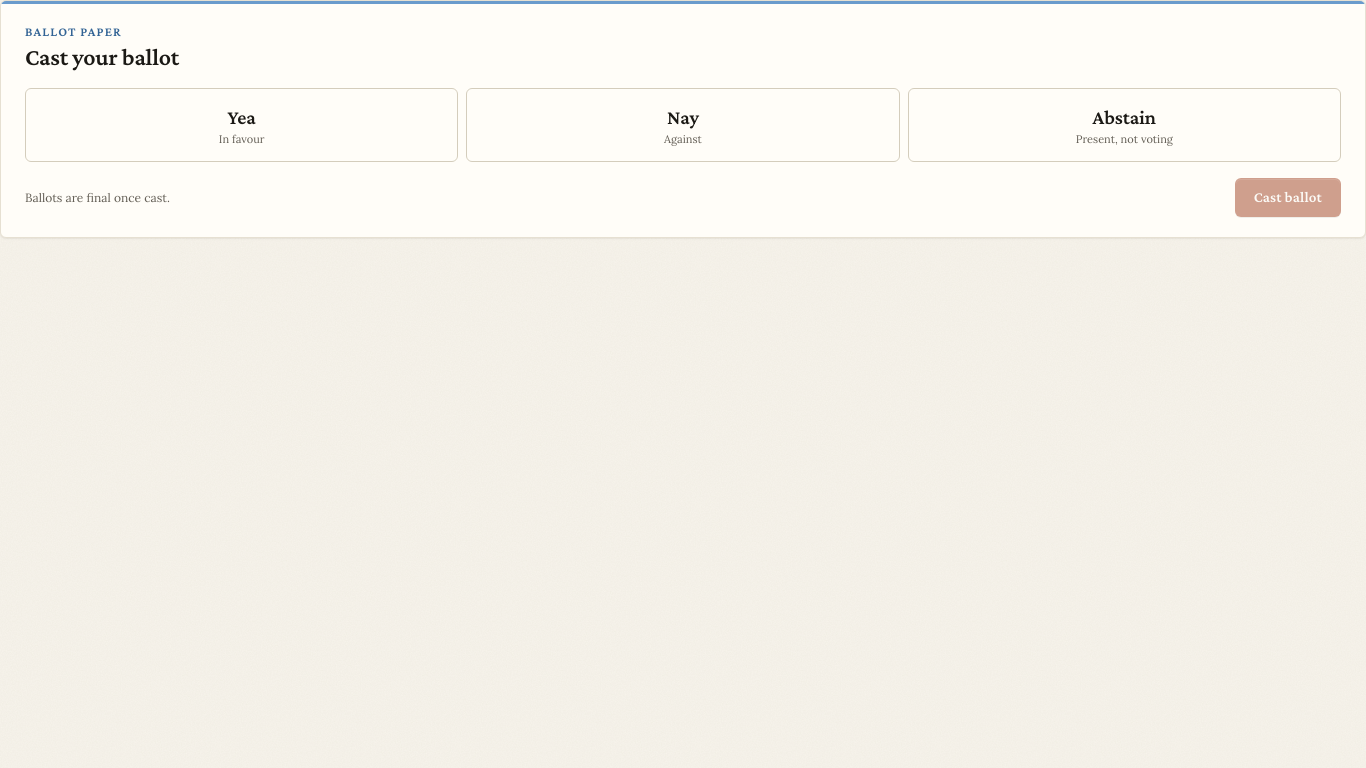
Test: BallotPanel › casts a yea ballot after confirmation
Click the radio button labelled "Yea In favour".
click(242, 125)  # box [25,88,458,162]
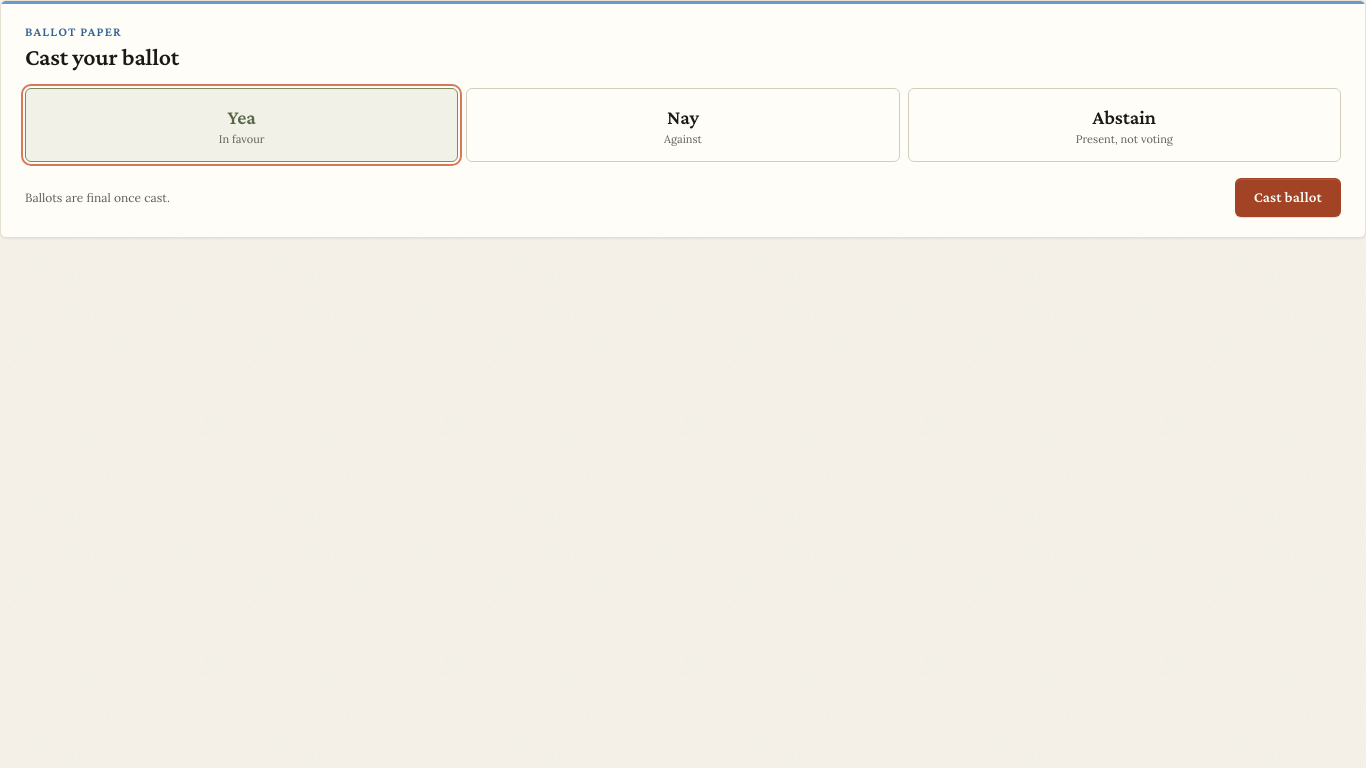
Click the button "Cast ballot".
click(1288, 198)  # box [1235,178,1341,217]
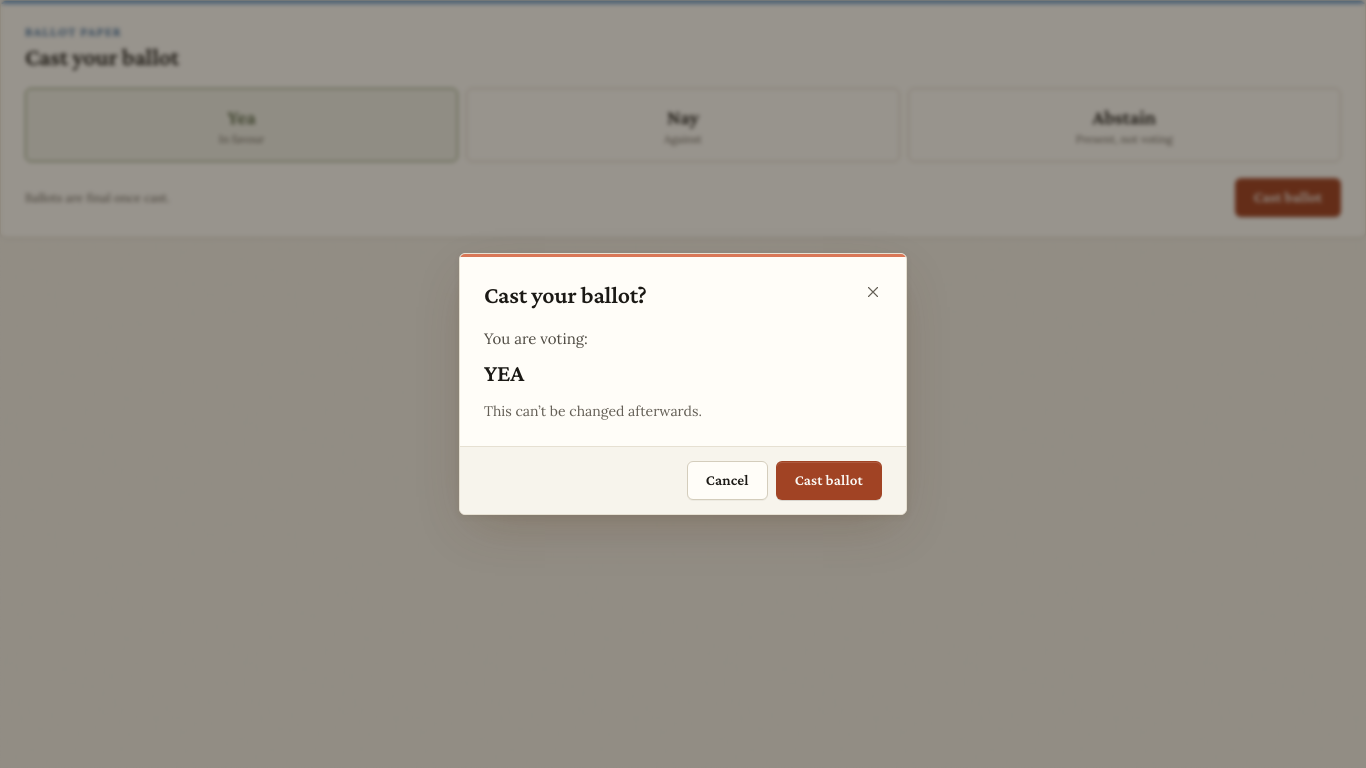
Result: the dialog shows "YEA" at [484,359,524,386]
Click the button "Cast ballot".
click(829, 481)  # box [776,461,882,500]
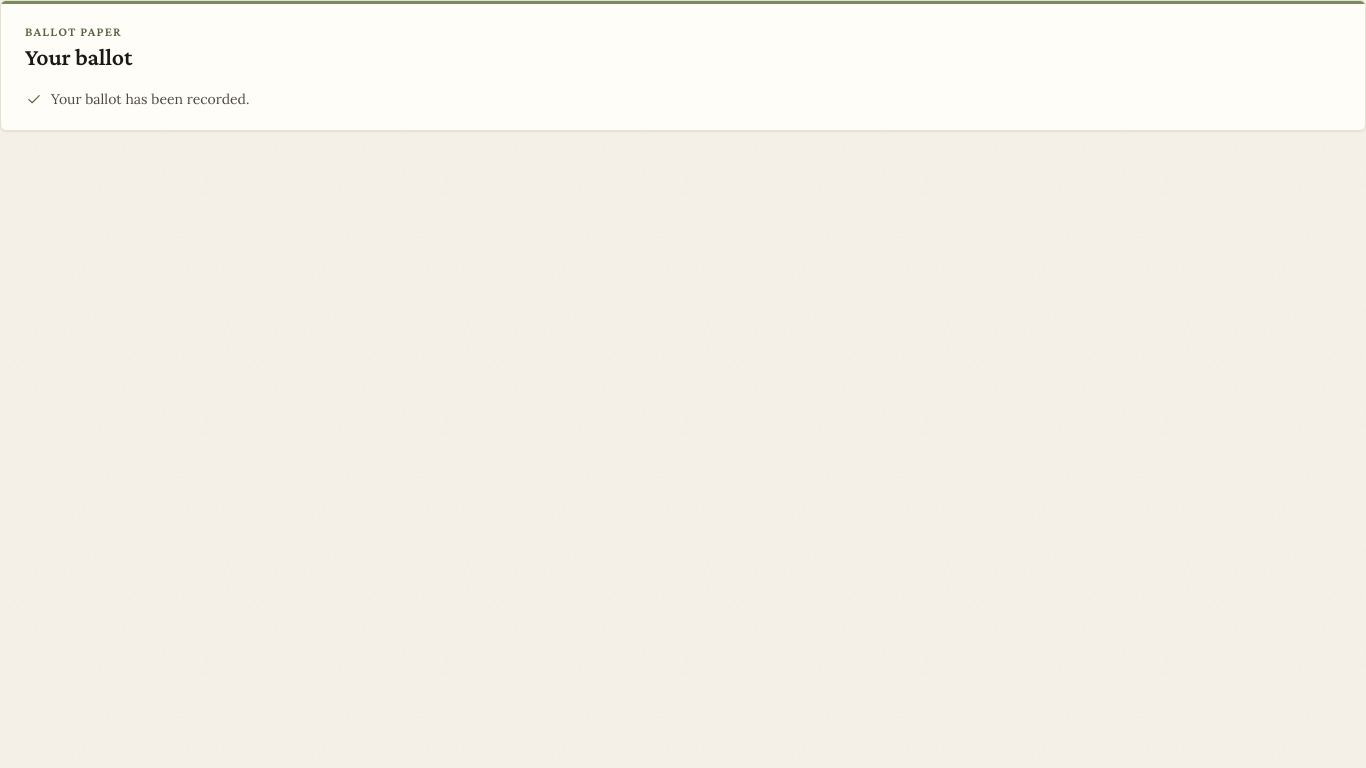
Result: the text "Your ballot has been recorded." is shown at [25,90,249,108]
